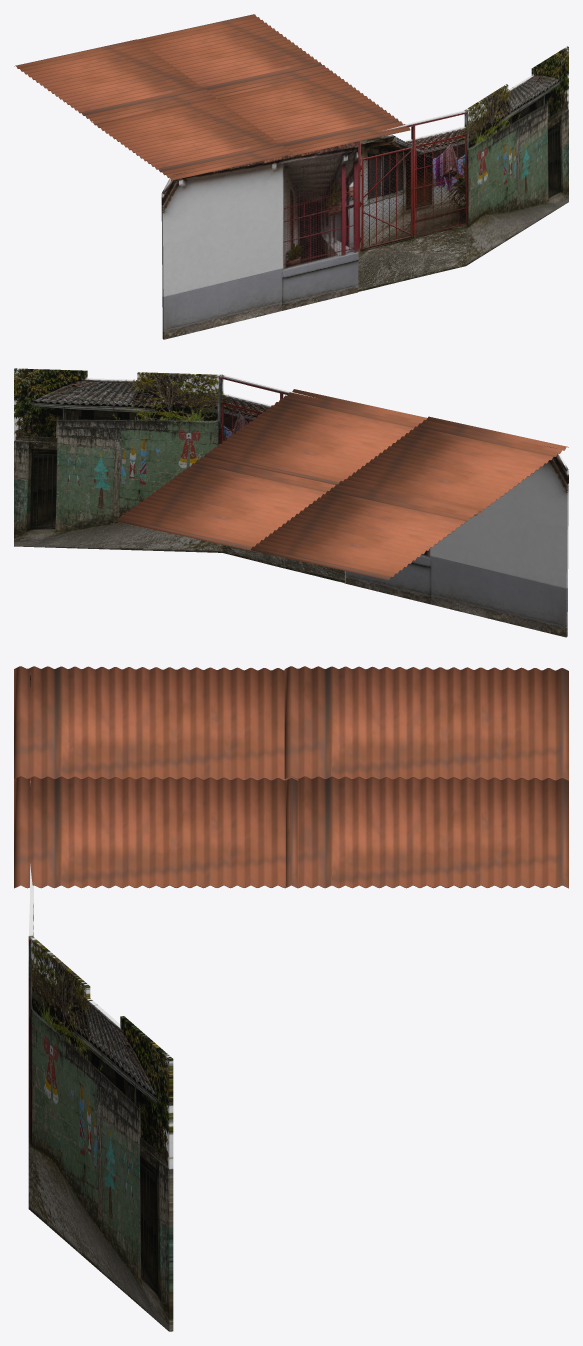
Rendered from casaA_derecha_09.fbx.
3 renders of one model, top to bottom at view 1: azimuth 30°, elevation 25°; view 2: azimuth 150°, elevation 25°; view 3: azimuth 270°, elevation 25°, orthographic. The views are drawn at different scales.
Visible parts, largest first — view 1: casaA_derecha_09.001, casaA_derecha_09B.001, Techo_03.011, Techo_03.010, Techo_03.009, Techo_03.008; view 2: casaA_derecha_09.001, casaA_derecha_09B.001, Techo_03.011, Techo_03.008, Techo_03.009, Techo_03.010; view 3: casaA_derecha_09.001, Techo_03.011, Techo_03.008, Techo_03.010, Techo_03.009.
Part boxes in pixels (x1,y1,x2,y2): casaA_derecha_09.001: (358, 46, 568, 291); casaA_derecha_09B.001: (161, 142, 358, 339); Techo_03.011: (14, 39, 215, 124); Techo_03.010: (137, 14, 332, 98); Techo_03.009: (91, 98, 292, 180); Techo_03.008: (215, 70, 410, 156); casaA_derecha_09.001: (14, 368, 345, 583); casaA_derecha_09B.001: (344, 420, 568, 637); Techo_03.011: (251, 481, 480, 580); Techo_03.008: (204, 389, 427, 484); Techo_03.009: (343, 416, 568, 515); Techo_03.010: (116, 456, 335, 551); casaA_derecha_09.001: (28, 864, 173, 1331); Techo_03.011: (284, 666, 568, 780); Techo_03.008: (14, 776, 297, 888); Techo_03.010: (285, 776, 568, 888); Techo_03.009: (14, 666, 298, 780).
Bounding box in the file's own units: 1235 × 433 × 758.
